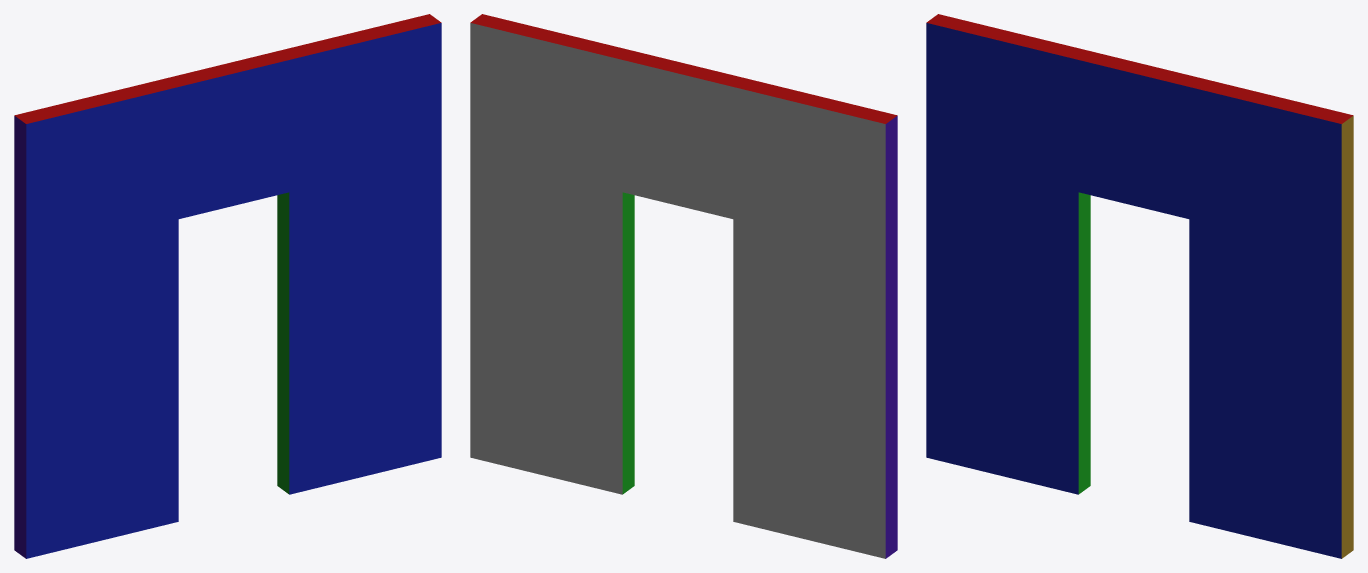
Rendered from Wall_Door_01a.fbx.
3 renders of one model, left to right at view 1: azimuth 30°, elevation 25°; view 2: azimuth 150°, elevation 25°; view 3: azimuth 330°, elevation 25°, orthographic.
Parts seen in each view (by area): view 1: Wall_Door_01a; view 2: Wall_Door_01a; view 3: Wall_Door_01a.
Boxes of the visible parts, x1=… form: Wall_Door_01a: x1=14, y1=14, x2=441, y2=558; Wall_Door_01a: x1=470, y1=14, x2=897, y2=558; Wall_Door_01a: x1=926, y1=14, x2=1353, y2=558.
Size of the model in its own units: 3 by 0.15 by 3.
